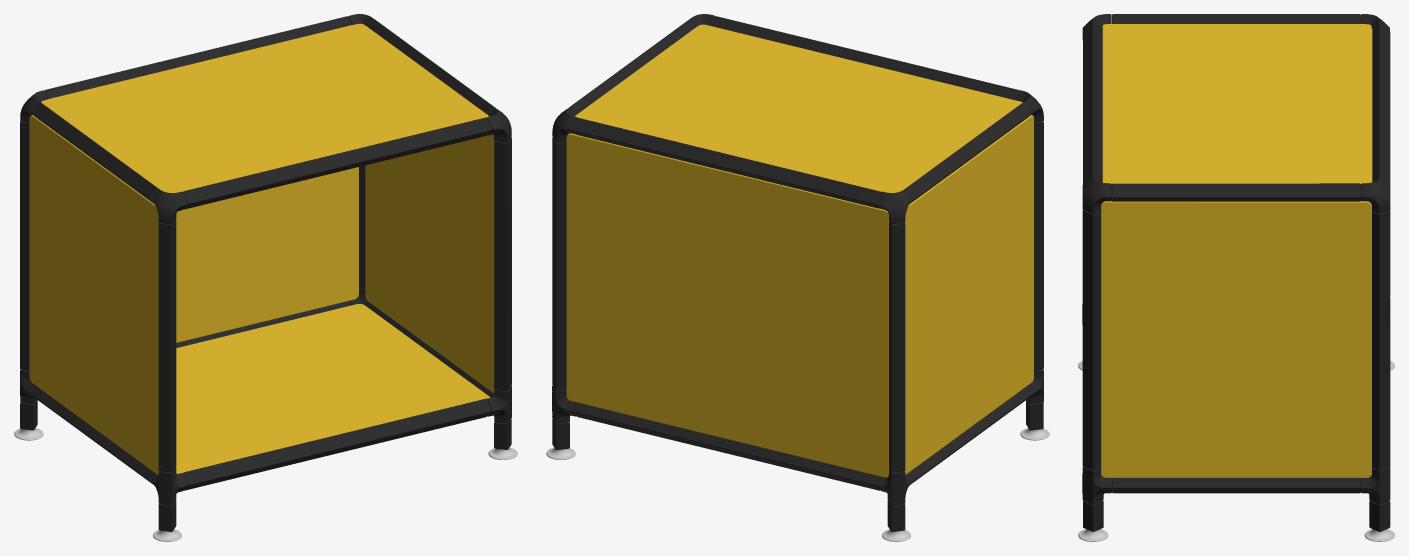
The picture shows the model from 3 angles, left to right: view 1: azimuth 30°, elevation 25°; view 2: azimuth 150°, elevation 25°; view 3: azimuth 270°, elevation 25°; orthographic projection. The views are drawn at different scales.
Parts seen in each view (by area): view 1: 479x329x374; view 2: 479x329x374; view 3: 479x329x374.
Boxes of the visible parts, <box> form: 479x329x374: <box>14,14,517,541</box>; 479x329x374: <box>546,14,1049,541</box>; 479x329x374: <box>1078,14,1394,541</box>.
Bounding box in the file's own units: 0.5689 × 0.5132 × 0.4183.
